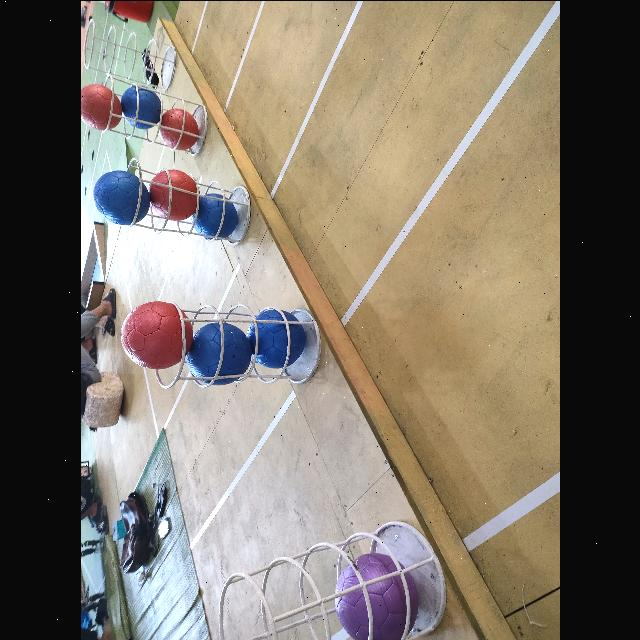B: (186, 321, 252, 384), (91, 168, 149, 224), (250, 307, 304, 367), (192, 192, 238, 240), (121, 84, 161, 128)
R: (119, 300, 193, 368), (148, 168, 198, 220), (80, 82, 121, 130), (159, 106, 199, 150)
